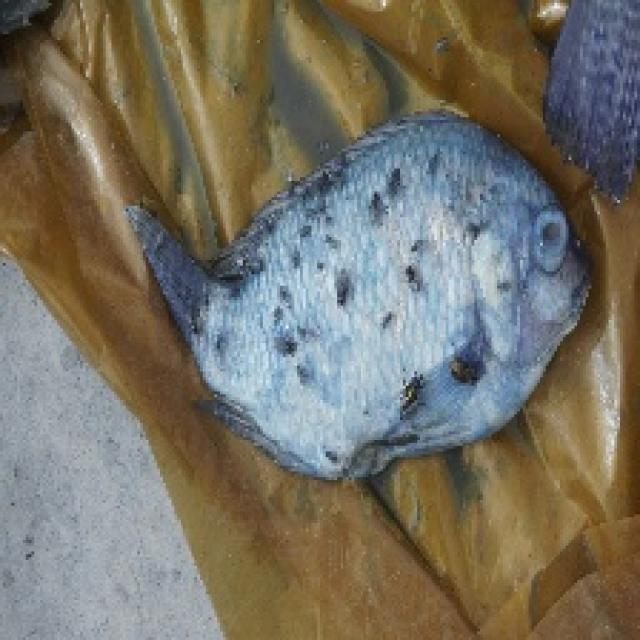Non-Fresh: (116, 121, 609, 472), (518, 196, 574, 276)
